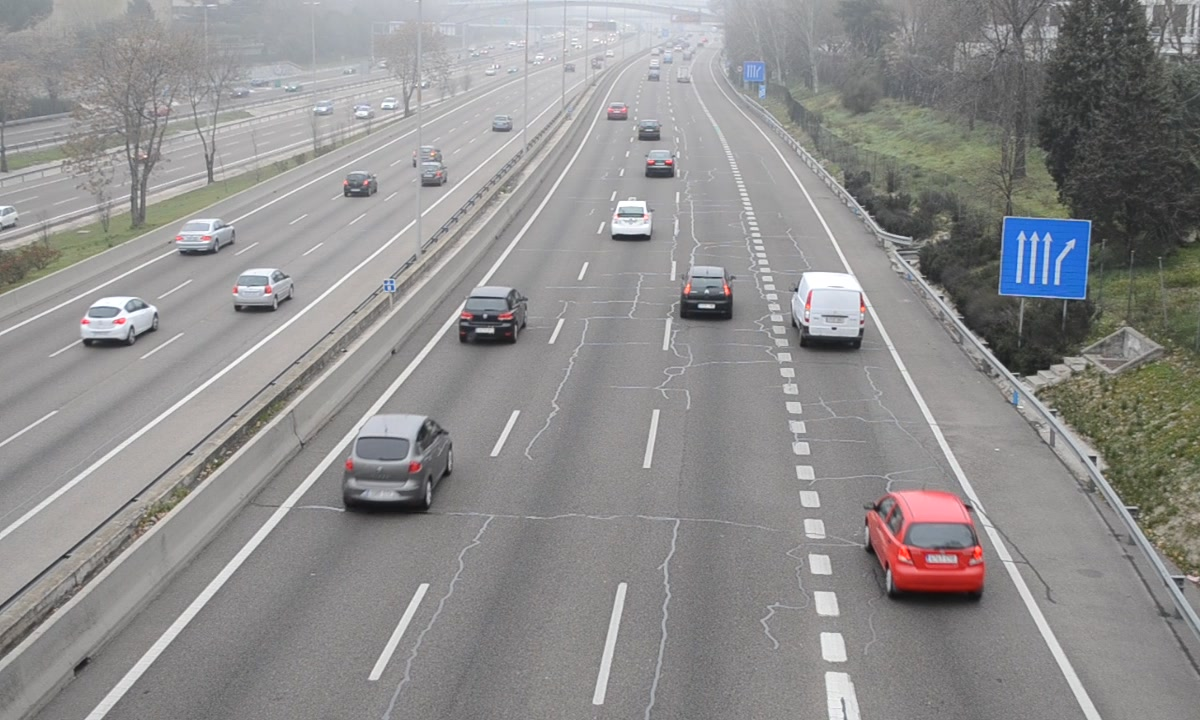car: (866, 490, 987, 593), (343, 415, 454, 506), (459, 285, 529, 342), (680, 264, 732, 321), (610, 199, 651, 237), (643, 148, 676, 178), (640, 121, 662, 142)
van: (793, 271, 865, 346)
